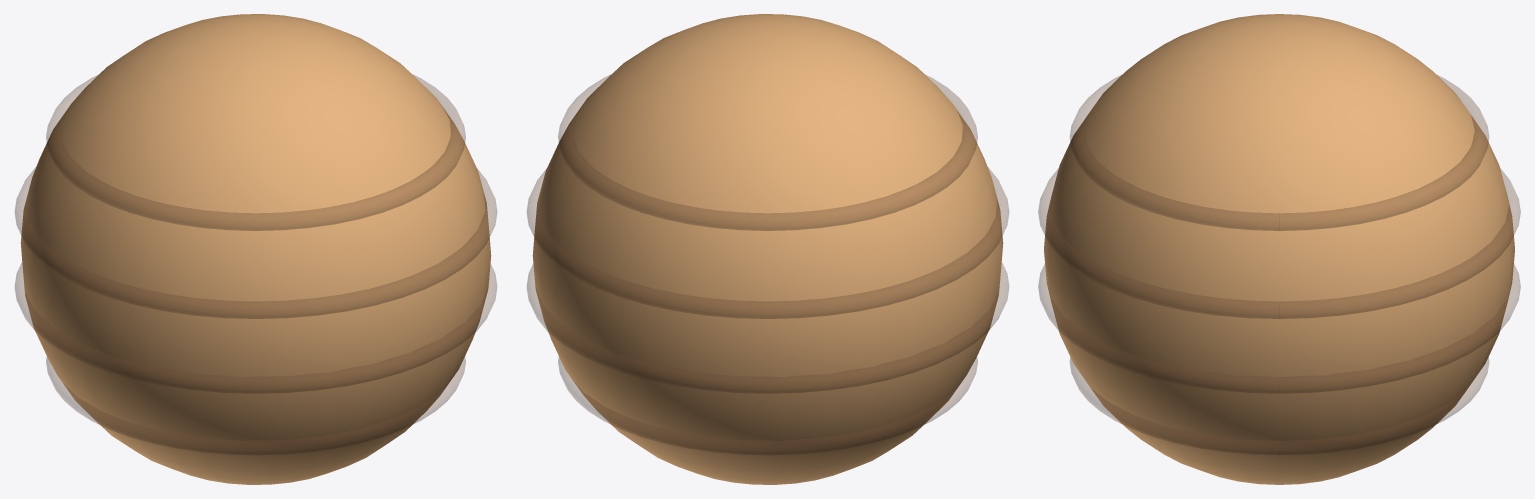
Rendered from jupiter.glb.
The picture shows the model from 3 angles, left to right: view 1: azimuth 30°, elevation 25°; view 2: azimuth 150°, elevation 25°; view 3: azimuth 270°, elevation 25°; orthographic projection.
Parts seen in each view (by area): view 1: jupiter; view 2: jupiter; view 3: jupiter.
Boxes of the visible parts, x1=… form: jupiter: x1=14, y1=14, x2=497, y2=484; jupiter: x1=526, y1=14, x2=1009, y2=484; jupiter: x1=1038, y1=14, x2=1520, y2=484.
Bounding box in the file's own units: 2.05 × 2 × 2.05.
